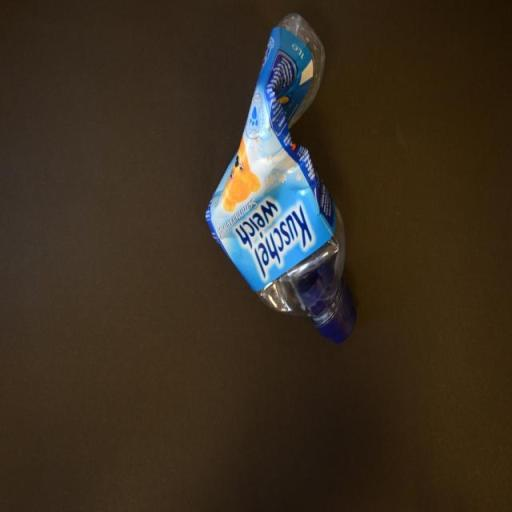plastic: (204, 12, 355, 342)
